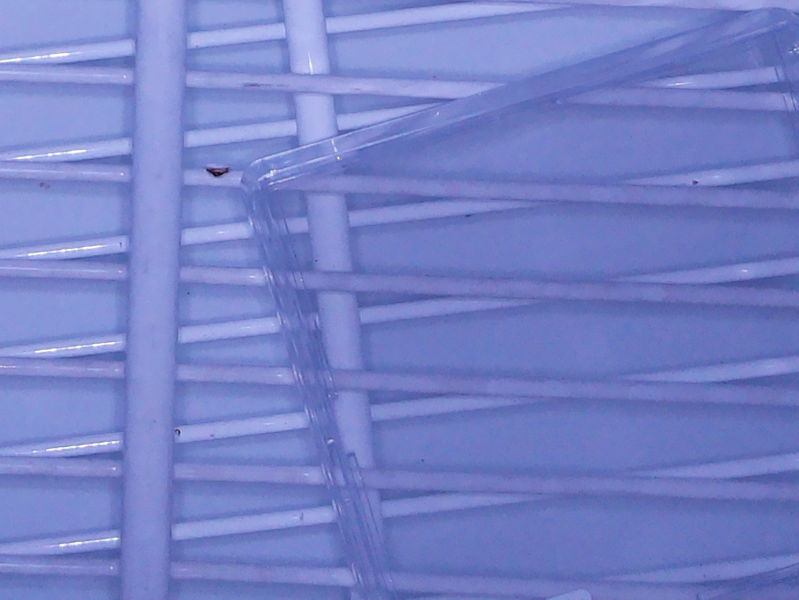plate: (238, 6, 799, 600)
